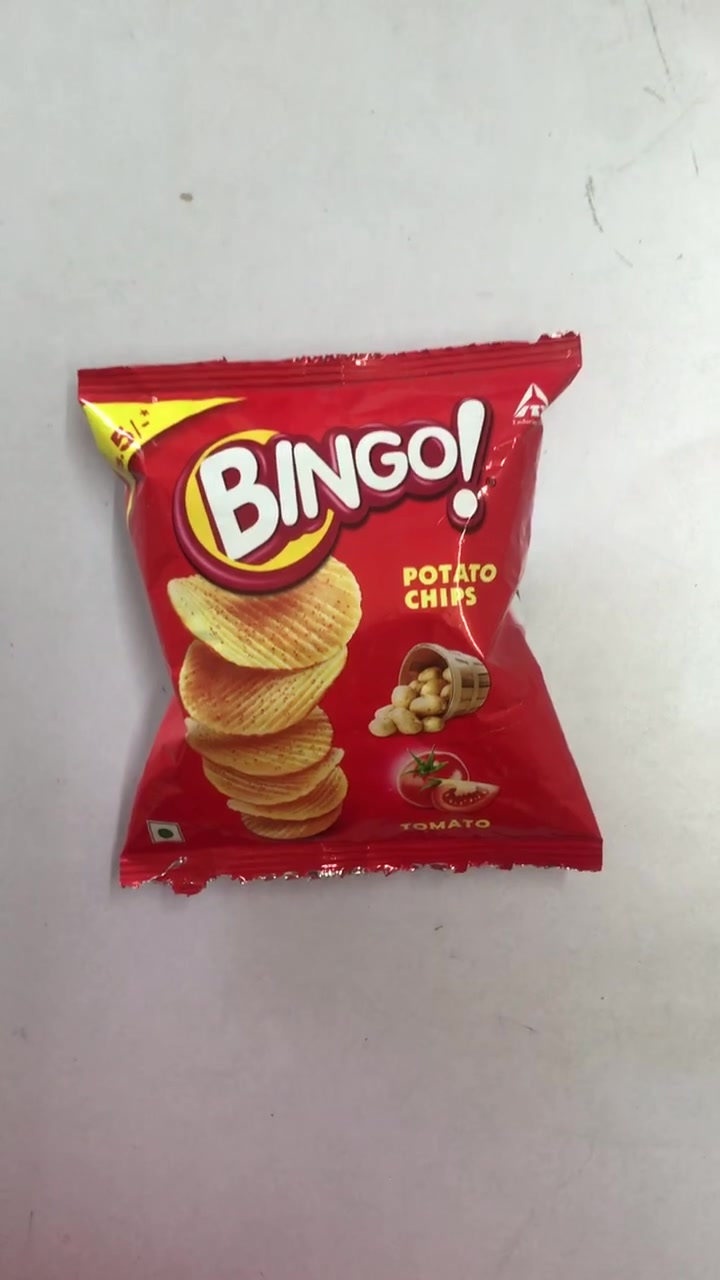Bingo: (81, 368, 605, 875)
